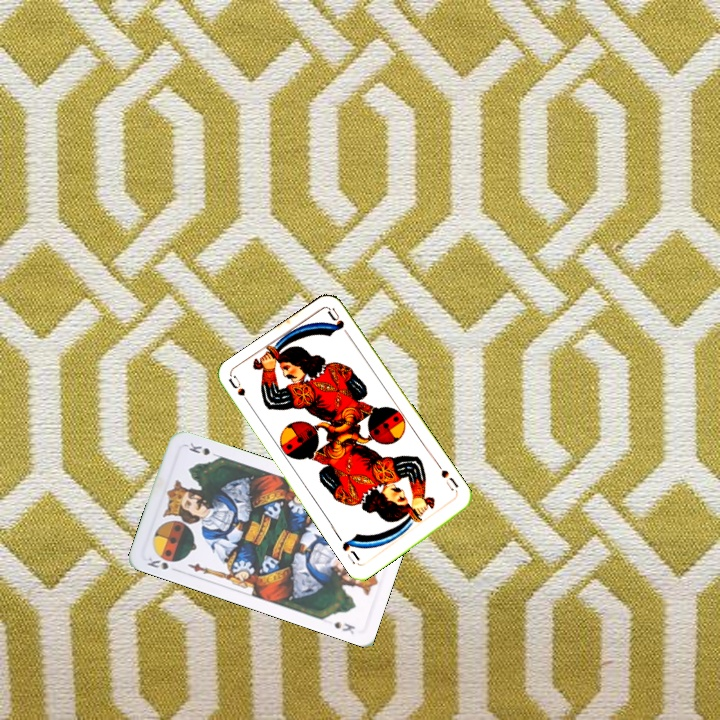SK: (143, 553, 182, 574)
SU: (225, 372, 255, 410), (437, 466, 461, 499)
